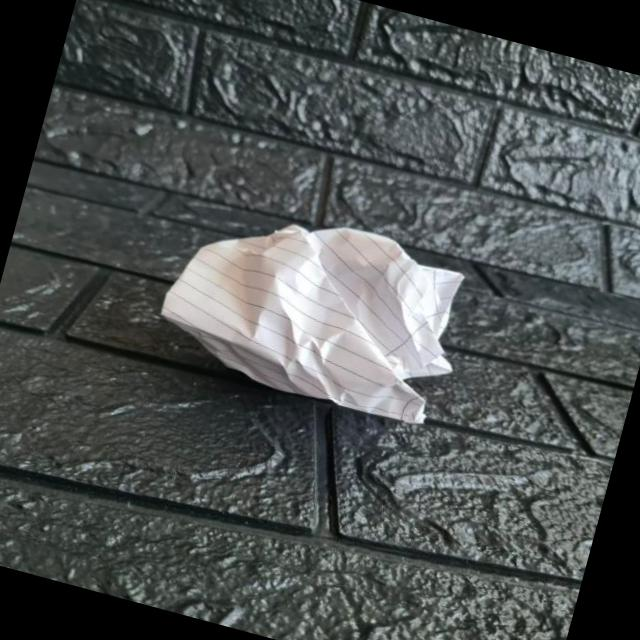cardboard paper: (163, 223, 463, 420)
